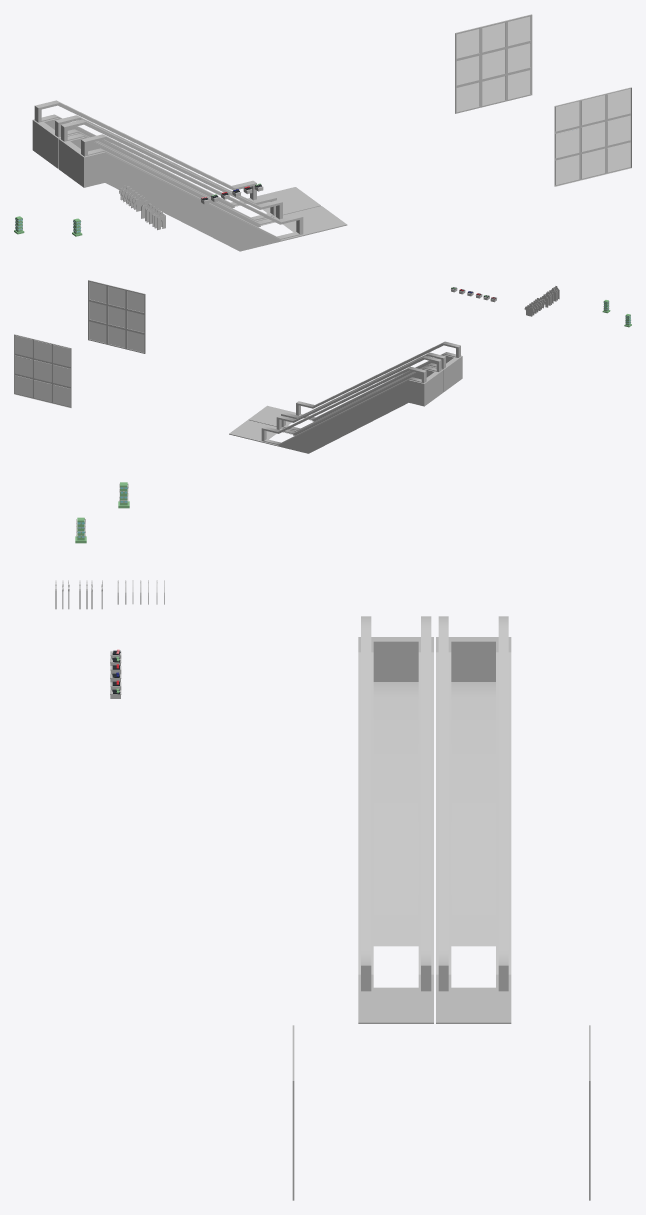
The picture shows the model from 3 angles, top to bottom: view 1: azimuth 30°, elevation 25°; view 2: azimuth 150°, elevation 25°; view 3: azimuth 270°, elevation 25°; orthographic projection. The views are drawn at different scales.
Visible parts, largest first — view 1: SI_Env_Escalator, Ad board, Ad board.001, SI_Env_Escalator.001; view 2: SI_Env_Escalator.001, Ad board, Ad board.001, SI_Env_Escalator; view 3: SI_Env_Escalator, SI_Env_Escalator.001.
Boxes of the visible parts, x1=… form: SI_Env_Escalator: x1=58, y1=119, x2=347, y2=251; Ad board: x1=554, y1=87, x2=631, y2=186; Ad board.001: x1=455, y1=14, x2=532, y2=113; SI_Env_Escalator.001: x1=32, y1=100, x2=320, y2=221; SI_Env_Escalator.001: x1=229, y1=355, x2=443, y2=453; Ad board: x1=88, y1=280, x2=145, y2=353; Ad board.001: x1=14, y1=334, x2=71, y2=407; SI_Env_Escalator: x1=248, y1=341, x2=462, y2=431; SI_Env_Escalator: x1=358, y1=616, x2=433, y2=1023; SI_Env_Escalator.001: x1=436, y1=616, x2=511, y2=1023.
Size of the model in its own units: 3288 by 770 by 1525.
